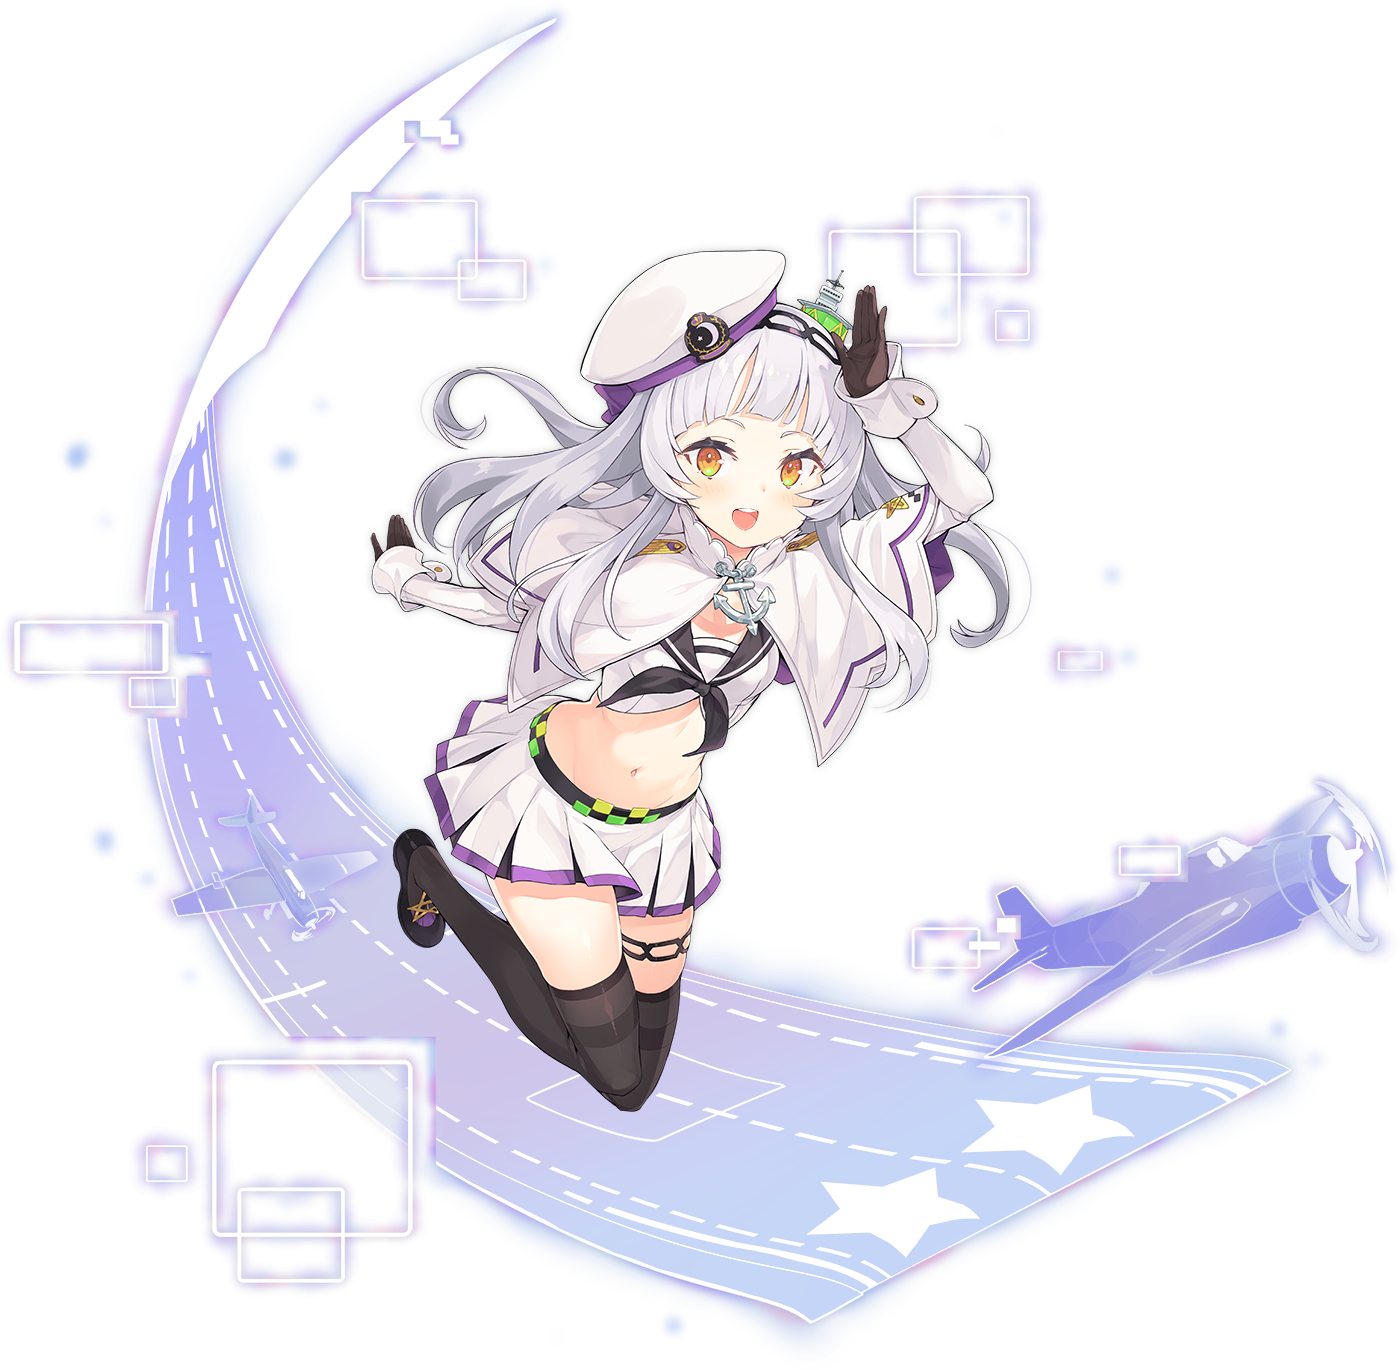person: (295, 262, 952, 1175)
